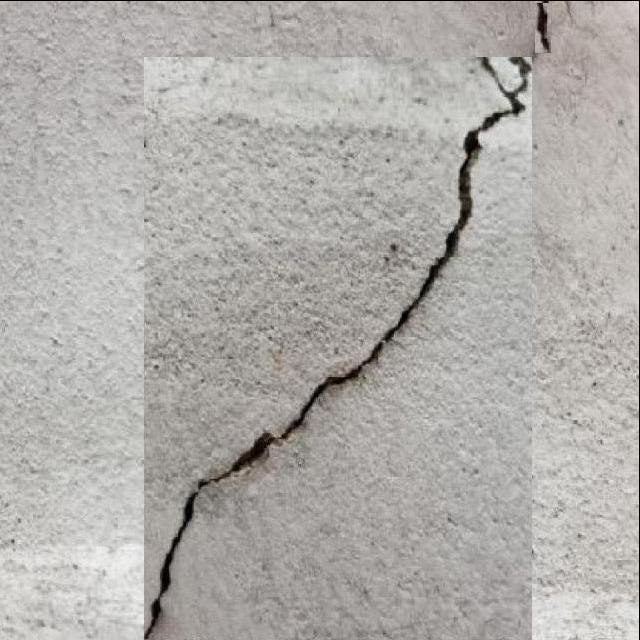Crack: (141, 53, 531, 638)
